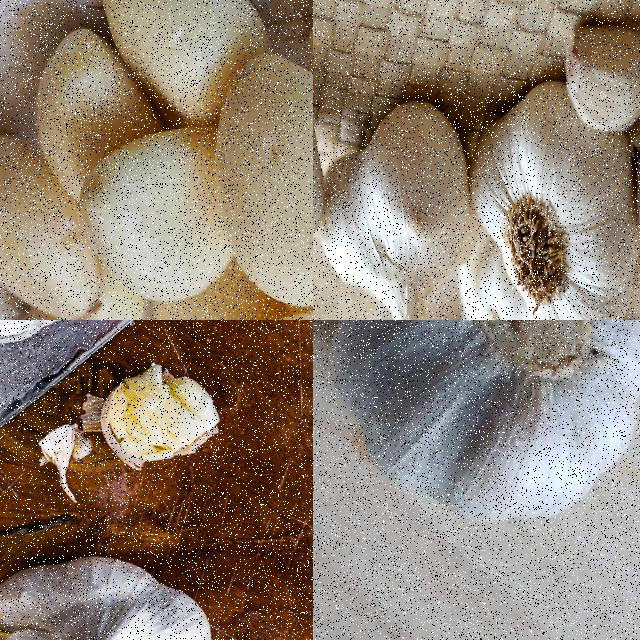garlic: (0, 0, 312, 319), (326, 320, 639, 522), (313, 84, 487, 319), (470, 80, 639, 319), (0, 552, 222, 639), (565, 21, 639, 144)
